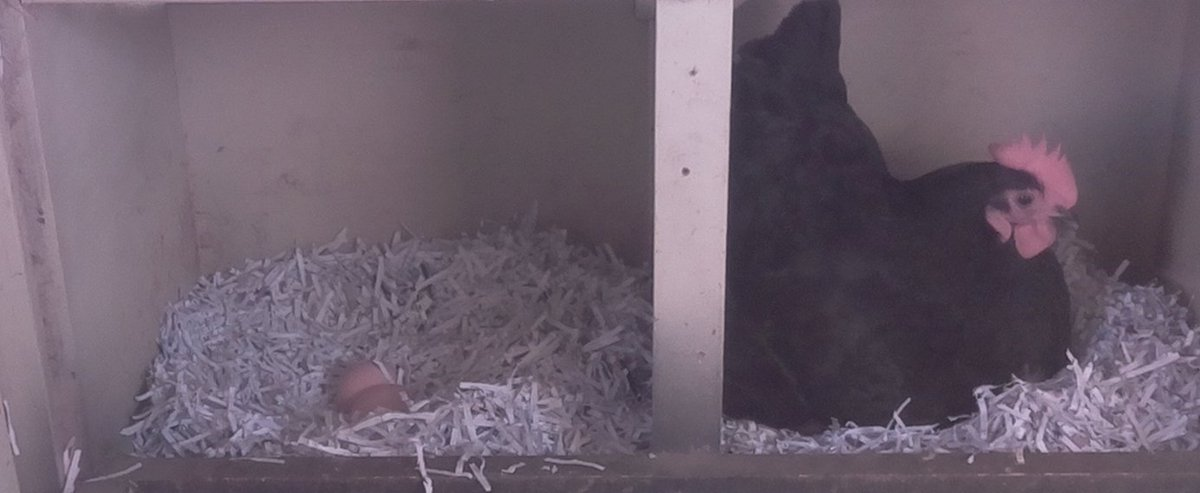egg: (326, 356, 401, 405), (343, 382, 406, 418)
hen: (734, 31, 1081, 425)
